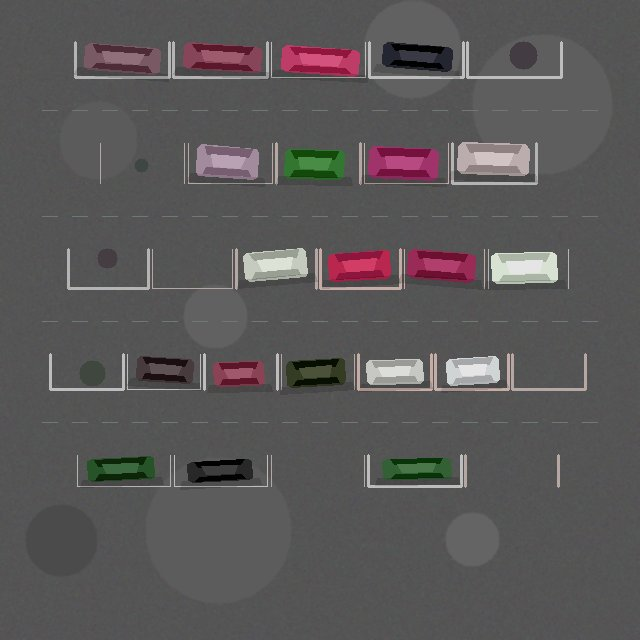space-empty: (100, 143, 184, 183), (467, 42, 561, 77), (68, 249, 148, 288), (152, 249, 232, 288), (271, 455, 364, 486), (465, 455, 558, 486), (50, 354, 123, 389), (512, 354, 585, 389)
space-occupied: (188, 143, 272, 183), (276, 143, 360, 183), (364, 143, 448, 183), (452, 143, 536, 183), (75, 42, 169, 77), (173, 42, 267, 77), (271, 42, 365, 77), (369, 42, 463, 77), (236, 249, 316, 288), (320, 249, 400, 288), (404, 249, 484, 288), (488, 249, 568, 288), (77, 455, 170, 486), (174, 455, 267, 486), (368, 455, 461, 486), (127, 354, 200, 389), (204, 354, 277, 389), (281, 354, 354, 389), (358, 354, 431, 389), (435, 354, 508, 389)
